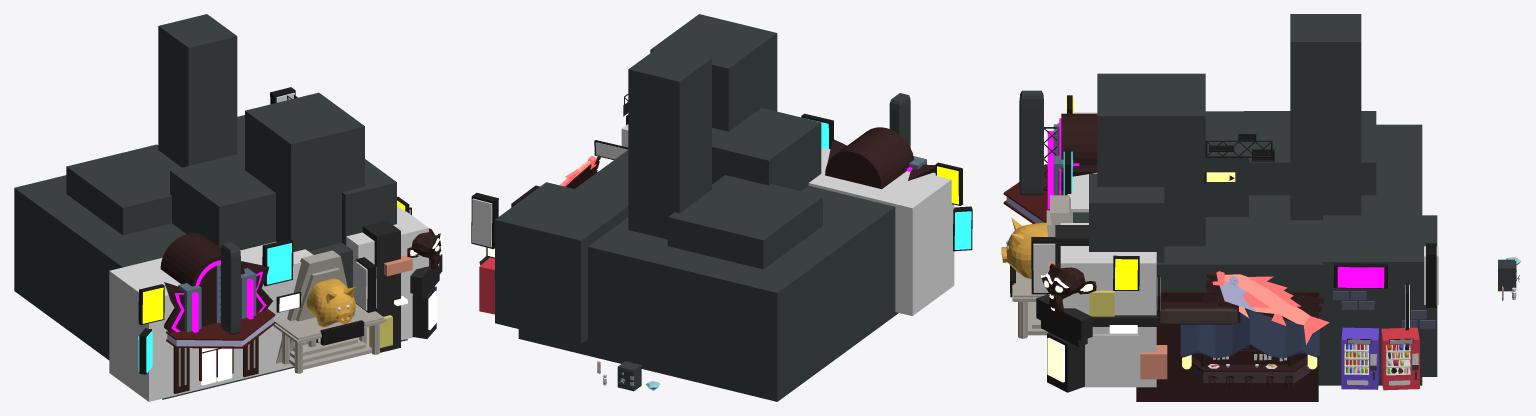
The model's file is kleptocity.fbx.
3 renders of one model, left to right at view 1: azimuth 30°, elevation 25°; view 2: azimuth 150°, elevation 25°; view 3: azimuth 270°, elevation 25°, orthographic. The views are drawn at different scales.
Visible parts, largest first — view 1: Cube, Cube.020, Cube.090, Cube.053, Cube.091, Cube.072, Cylinder.014, Cube.060, Cube.031, Cube.030, Cube.057, Sphere (+24 smaller); view 2: Cube, Cube.067, Cube.090, Cube.072, Cube.053, Cube.020, Cube.091, Cylinder.014, Cube.056, Cube.058, Cube.089, Cube.061 (+4 smaller); view 3: Cube, Cube.020, Cube.090, Cube.067, Cube.030, Cube.042, Cube.060, Cube.072, Cube.003, Cube.008, Cube.091, Cube.058 (+29 smaller).
Boxes of the visible parts, box(x1,y1,x2,y2) form: Cube: box(14, 175, 407, 399); Cube.020: box(245, 92, 364, 251); Cube.090: box(158, 14, 237, 167); Cube.053: box(109, 242, 312, 401); Cube.091: box(170, 152, 275, 250); Cube.072: box(66, 144, 181, 235); Cylinder.014: box(160, 233, 272, 332); Cube.060: box(342, 159, 396, 245); Cube.031: box(362, 220, 400, 352); Cube.030: box(346, 206, 428, 345); Cube.057: box(166, 308, 275, 348); Sphere: box(306, 278, 356, 327); Cube: box(518, 150, 898, 401); Cube.067: box(495, 182, 628, 344); Cube.090: box(628, 46, 711, 239); Cube.072: box(667, 175, 822, 269); Cube.053: box(808, 147, 954, 315); Cube.020: box(650, 14, 777, 131); Cube.091: box(712, 108, 821, 191); Cylinder.014: box(825, 127, 935, 189); Cube.056: box(471, 192, 498, 249); Cube.058: box(889, 93, 910, 147); Cube.089: box(953, 206, 972, 251); Cube.061: box(479, 257, 494, 314); Cube: box(1073, 124, 1422, 385); Cube.020: box(1097, 73, 1205, 246); Cube.090: box(1290, 14, 1361, 220); Cube.067: box(1323, 215, 1437, 376); Cube.030: box(1060, 223, 1156, 387); Cube.042: box(1136, 291, 1318, 401); Cube.060: box(1089, 173, 1164, 262); Cube.072: box(1244, 111, 1376, 195); Cube.003: box(1180, 310, 1319, 358); Cube.008: box(1201, 271, 1329, 344); Cube.091: box(1205, 111, 1248, 216); Cube.058: box(1019, 90, 1043, 195).
Size of what is drawn, in the model's own units: 8393 by 6943 by 5592.
